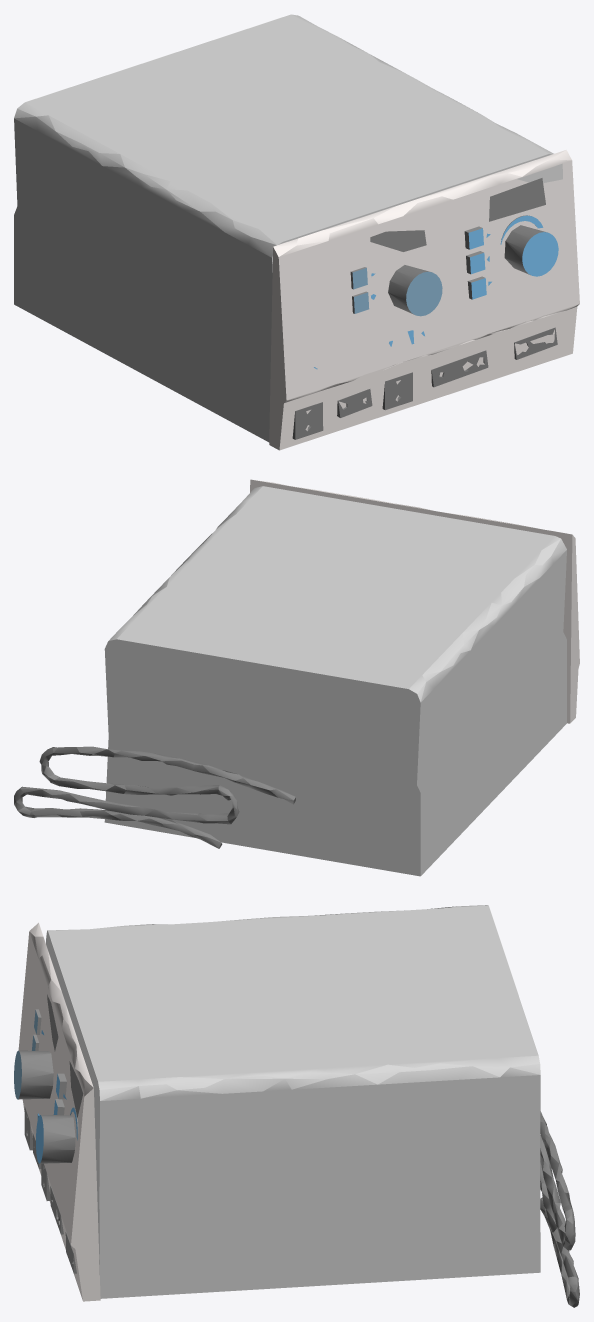
File: caja 1.fbx
The picture shows the model from 3 angles, top to bottom: view 1: azimuth 30°, elevation 25°; view 2: azimuth 150°, elevation 25°; view 3: azimuth 270°, elevation 25°; orthographic projection. The views are drawn at different scales.
Parts seen in each view (by area): view 1: w_Medical_Equipment___ElectroSurgical_Generator_ESU_w_M_0875; view 2: w_Medical_Equipment___ElectroSurgical_Generator_ESU_w_M_0875; view 3: w_Medical_Equipment___ElectroSurgical_Generator_ESU_w_M_0875.
Part boxes in pixels (left/top/right/bottom): w_Medical_Equipment___ElectroSurgical_Generator_ESU_w_M_0875: left=14, top=14, right=579, bottom=450; w_Medical_Equipment___ElectroSurgical_Generator_ESU_w_M_0875: left=14, top=479, right=579, bottom=876; w_Medical_Equipment___ElectroSurgical_Generator_ESU_w_M_0875: left=14, top=905, right=579, bottom=1307.
Bounding box in the file's own units: 31.25 × 15.19 × 36.59.
